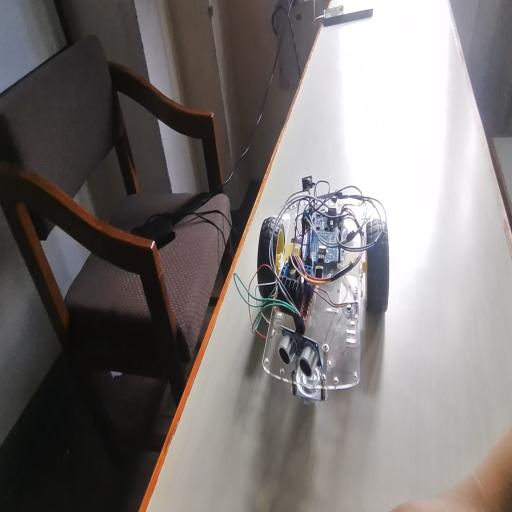car: (264, 164, 381, 397)
